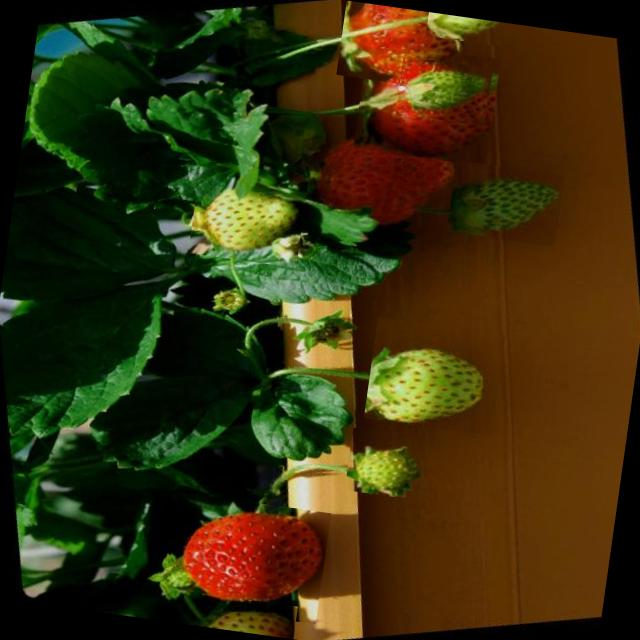ripe: (290, 112, 466, 255), (164, 492, 331, 624), (353, 41, 501, 167), (337, 0, 468, 91)
unripe: (364, 317, 506, 436), (188, 161, 309, 268), (446, 160, 564, 247), (396, 56, 492, 126), (344, 428, 426, 500), (180, 590, 298, 640), (426, 12, 536, 51)
